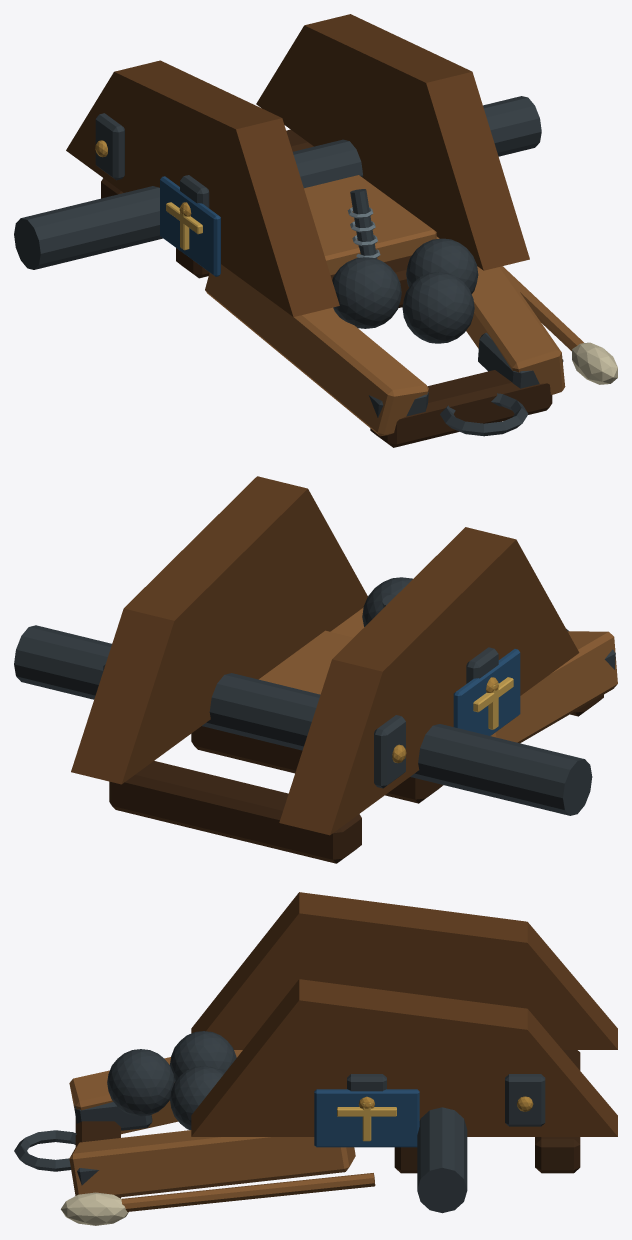
Rendered from Body.glb.
3 renders of one model, top to bottom at view 1: azimuth 30°, elevation 25°; view 2: azimuth 150°, elevation 25°; view 3: azimuth 270°, elevation 25°, orthographic. The views are drawn at different scales.
Visible parts, largest first — view 1: Sculpture; view 2: Sculpture; view 3: Sculpture.
Part boxes in pixels (x1,y1,x2,y2): Sculpture: (14, 14, 617, 447); Sculpture: (14, 476, 617, 863); Sculpture: (14, 892, 617, 1225).
Bounding box in the file's own units: 2.16 × 1 × 2.41.
